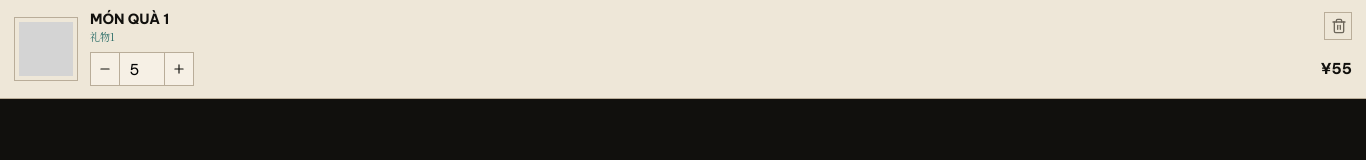
Test: SelectionRow › quantity field › restores the last good quantity when the field is left empty
This screenshot has width=1366, height=160.
Clear the number field named "số lượng" at (142, 69), box [119,53,165,85]
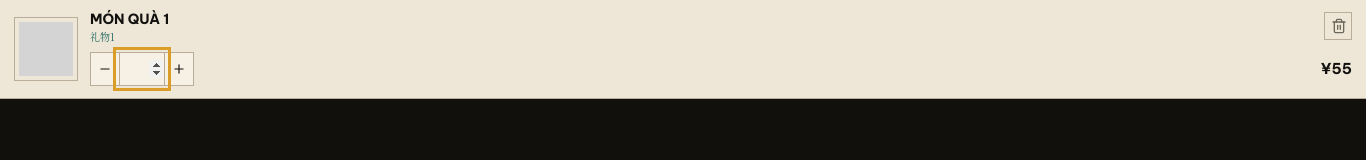
Press Tab
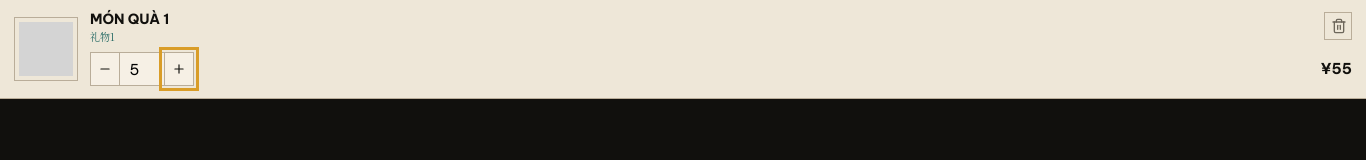
Now the number field named "số lượng" holds "5", box [119,53,165,85]
